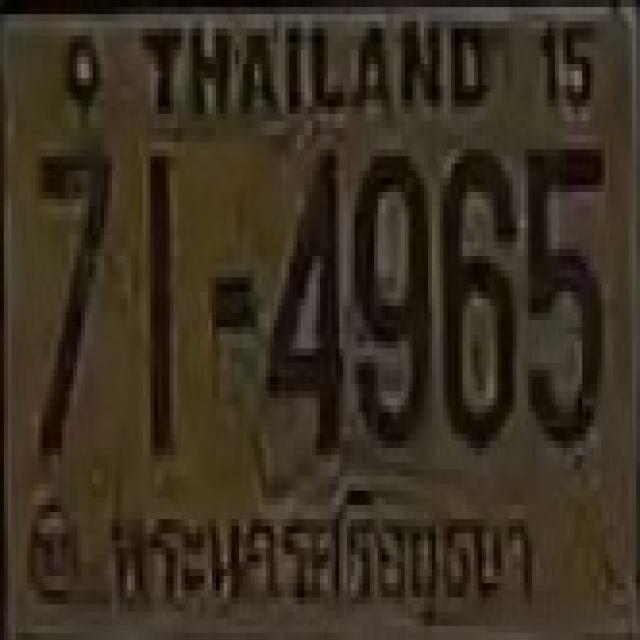1: (146, 153, 174, 451)
4: (264, 142, 341, 448)
5: (524, 142, 602, 441)
6: (439, 142, 513, 441)
7: (37, 142, 110, 455)
9: (351, 149, 428, 441)
AYA: (100, 477, 537, 627)
